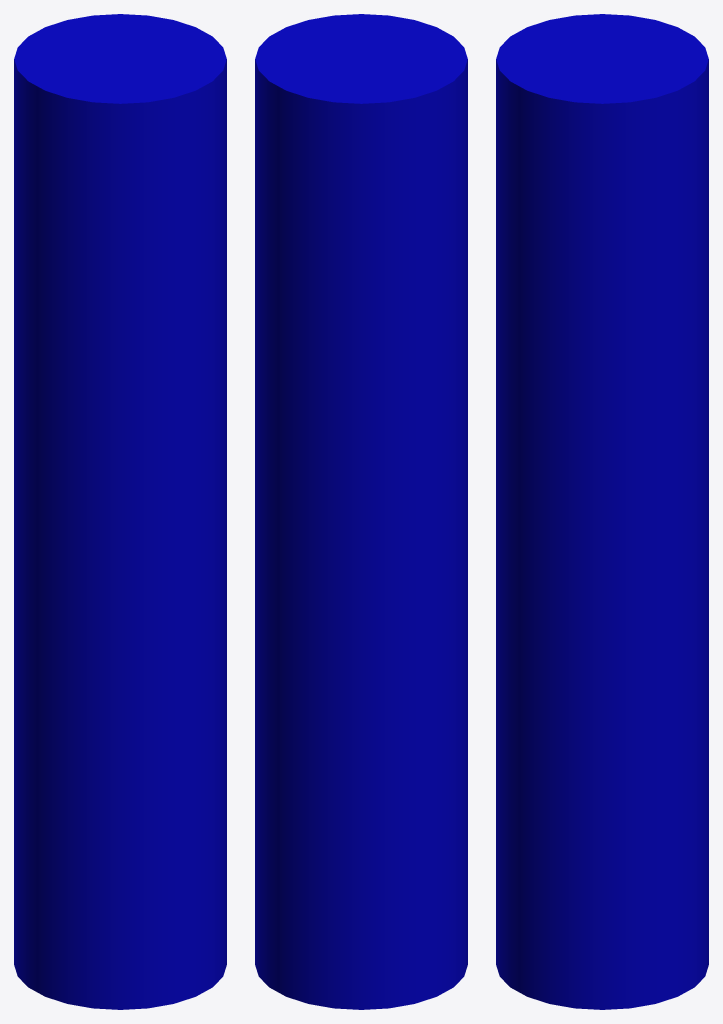
File: original-5.obj
The picture shows the model from 3 angles, left to right: view 1: azimuth 30°, elevation 25°; view 2: azimuth 150°, elevation 25°; view 3: azimuth 270°, elevation 25°; orthographic projection.
Visible parts, largest first — view 1: Group5/mesh13/mesh13-geometry#mesh13-geometry; view 2: Group5/mesh13/mesh13-geometry#mesh13-geometry; view 3: Group5/mesh13/mesh13-geometry#mesh13-geometry.
Part boxes in pixels (x1,y1,x2,y2): Group5/mesh13/mesh13-geometry#mesh13-geometry: [14, 14, 226, 1009]; Group5/mesh13/mesh13-geometry#mesh13-geometry: [255, 14, 467, 1009]; Group5/mesh13/mesh13-geometry#mesh13-geometry: [496, 14, 708, 1009].
Size of the model in its own units: 0.038 by 0.1786 by 0.038.
